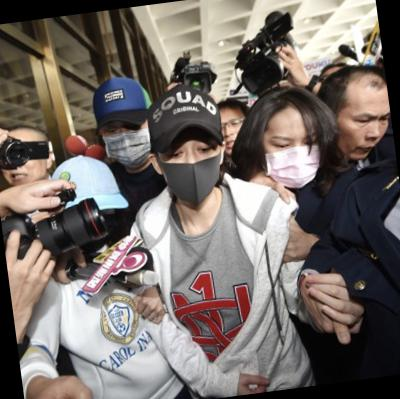with_mask: (154, 131, 228, 215), (259, 127, 325, 191), (99, 118, 156, 173)
without_mask: (333, 104, 396, 165), (218, 114, 249, 157)
